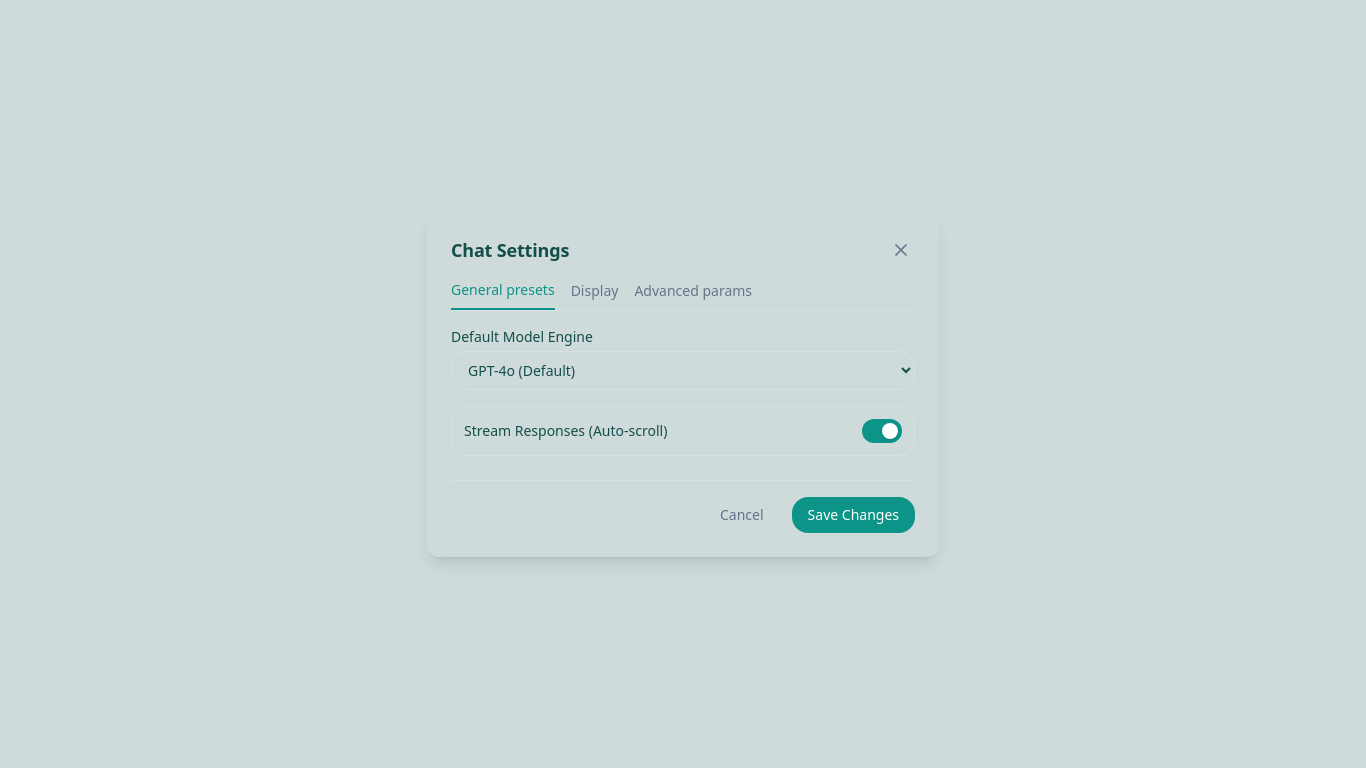
SettingsModal › shows display settings when Display tab is clicked
What coordinates should you click on to do the following:
click the button "Display"
I would click on:
 (594, 294)
Its box is 571,280 -> 618,310.
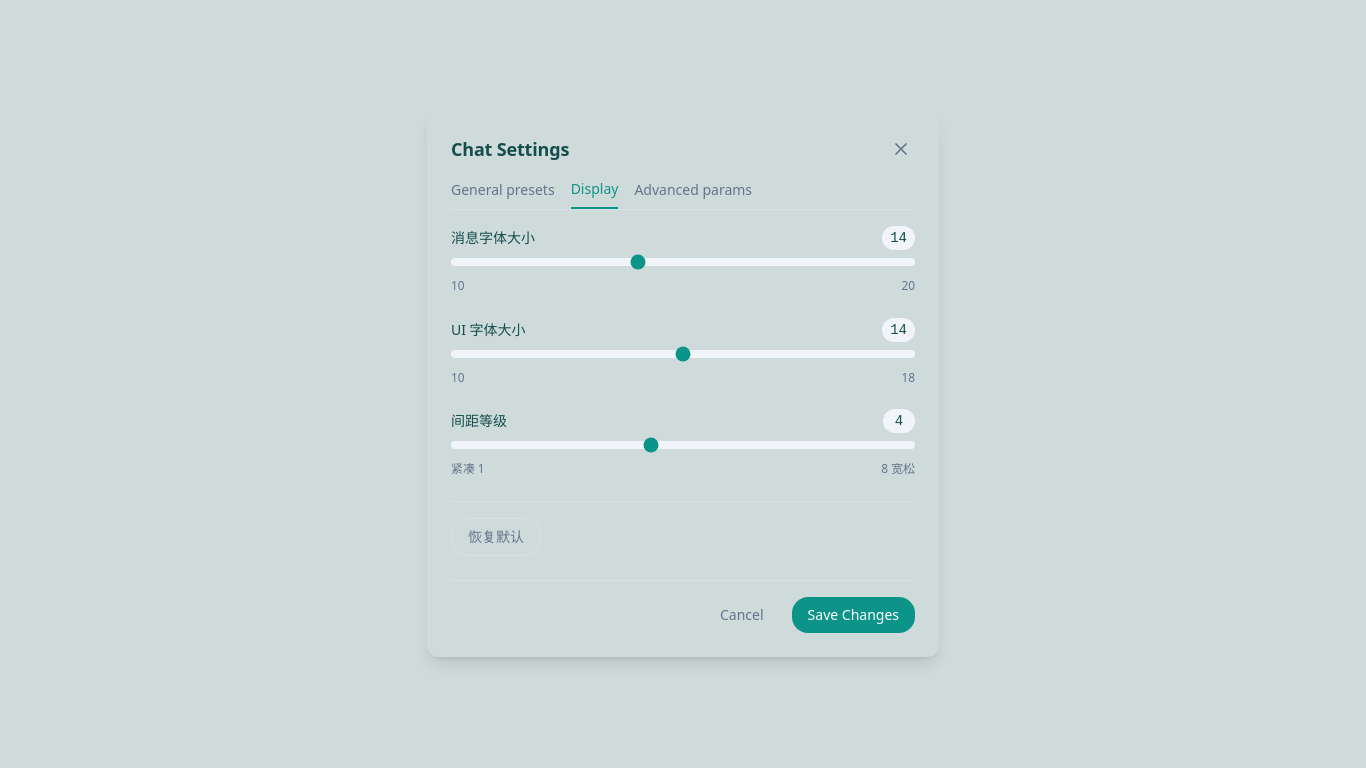
Expected: the text "消息字体大小" is shown, 451,228 -> 535,248
Expected: the text "UI 字体大小" is shown, 451,320 -> 526,340
Expected: the text "间距等级" is shown, 451,411 -> 507,431
